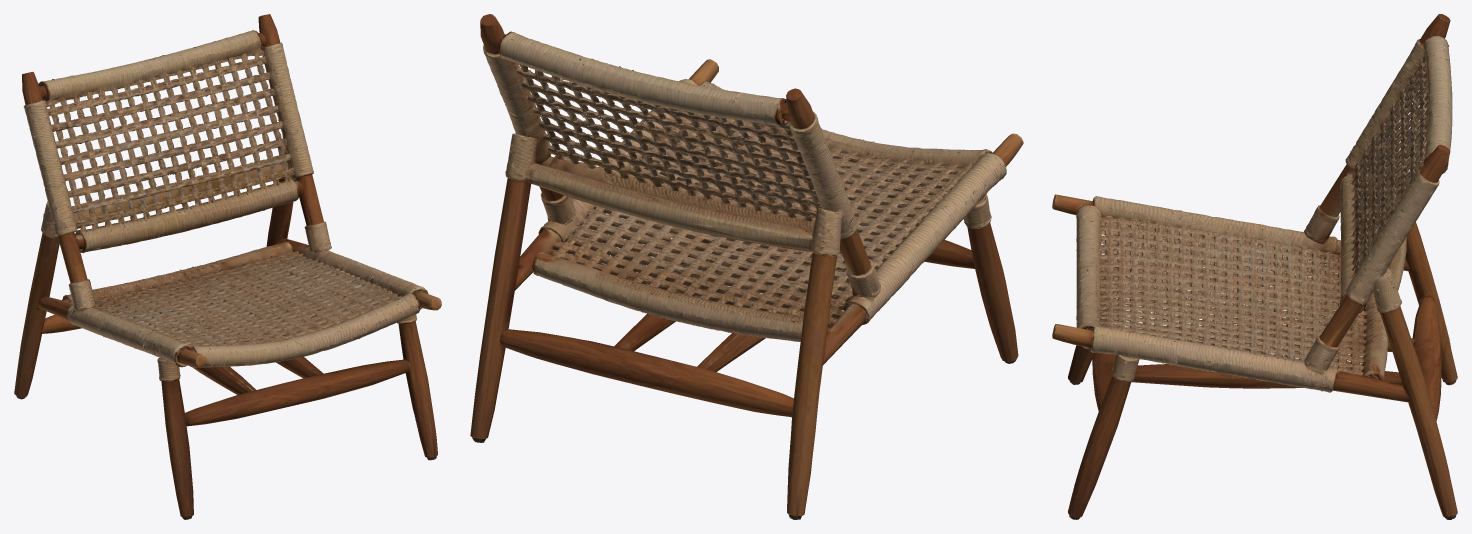
File: lounge_chair.glb
3 renders of one model, left to right at view 1: azimuth 30°, elevation 25°; view 2: azimuth 150°, elevation 25°; view 3: azimuth 270°, elevation 25°, orthographic. The views are drawn at different scales.
Parts seen in each view (by area): view 1: node_0; view 2: node_0; view 3: node_0.
Boxes of the visible parts, box(x1,y1,x2,y2) form: node_0: box(14, 14, 441, 519); node_0: box(470, 14, 1023, 519); node_0: box(1052, 14, 1457, 519).
Size of the model in its own units: 0.6176 by 0.75 by 0.7422.
1 material, 1 textured.
